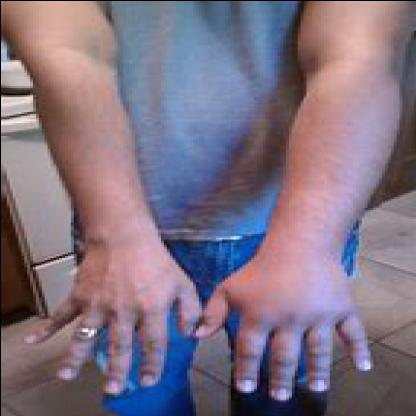Wasp: (291, 87, 393, 194), (230, 255, 352, 322)
